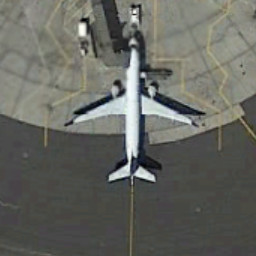Airplane: (65, 31, 201, 190)
